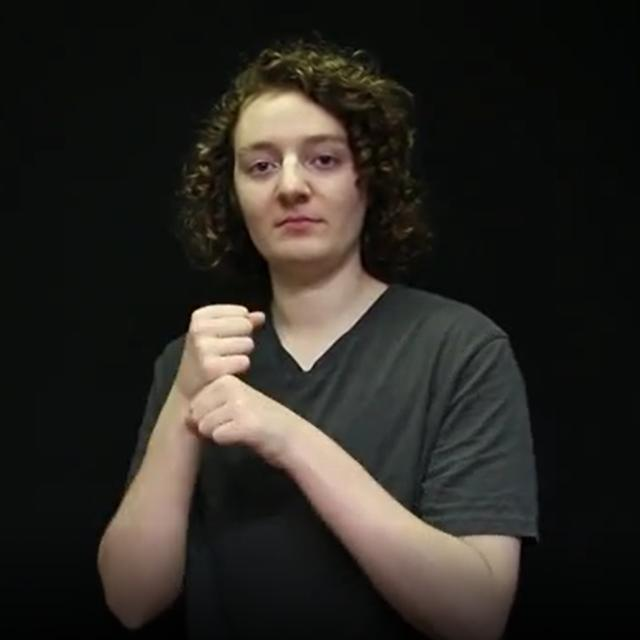get: (176, 304, 266, 448)
